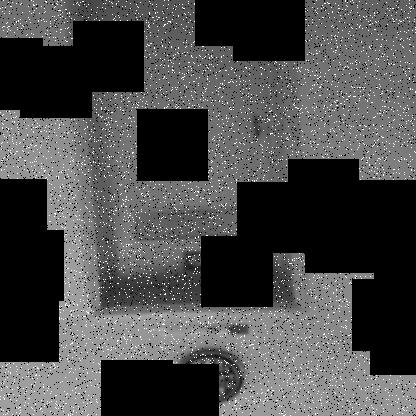Porte: (63, 1, 312, 321)
